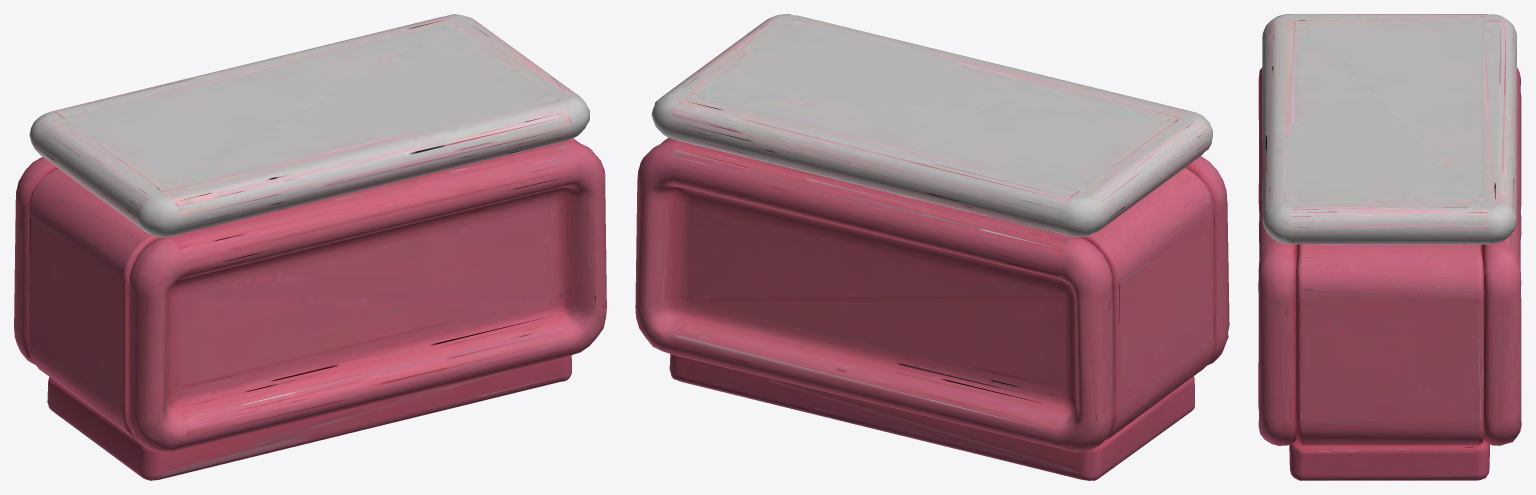
File: counter.glb
3 renders of one model, left to right at view 1: azimuth 30°, elevation 25°; view 2: azimuth 150°, elevation 25°; view 3: azimuth 270°, elevation 25°, orthographic. The views are drawn at different scales.
Parts seen in each view (by area): view 1: geometry_0; view 2: geometry_0; view 3: geometry_0.
Part boxes in pixels (x1=…): geometry_0: x1=14, y1=14, x2=606, y2=480; geometry_0: x1=635, y1=14, x2=1229, y2=480; geometry_0: x1=1258, y1=14, x2=1521, y2=480.
Bounding box in the file's own units: 1 × 0.5919 × 0.5162.
Materials: 1 (1 with a texture image).
